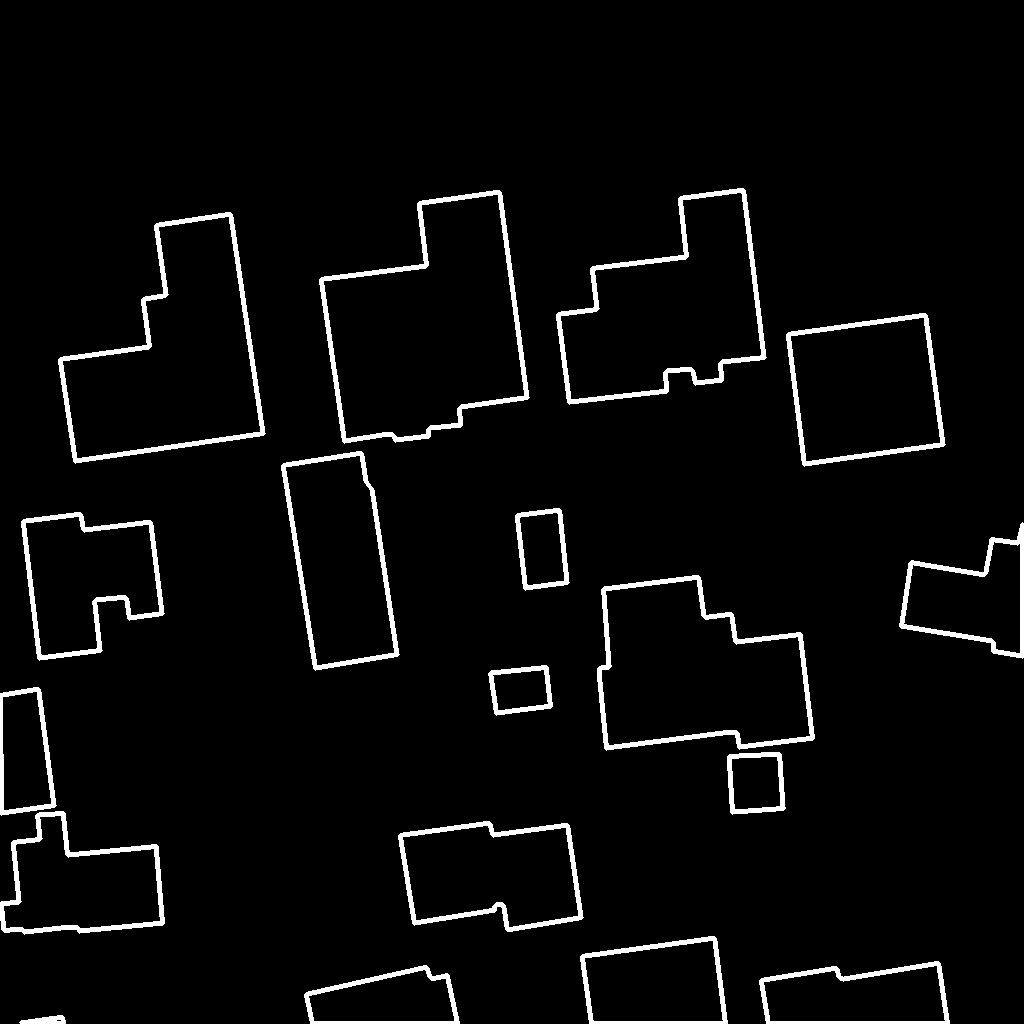building: (321, 192, 528, 442), (60, 214, 264, 462), (558, 190, 765, 403), (599, 577, 814, 749), (283, 453, 398, 669), (788, 315, 944, 465), (23, 514, 163, 659), (400, 823, 582, 931), (1, 813, 164, 933), (901, 522, 1024, 657), (582, 938, 727, 1024), (761, 963, 949, 1024), (306, 967, 459, 1024), (0, 689, 55, 814), (517, 510, 568, 589), (729, 754, 784, 813), (490, 667, 552, 714), (18, 1017, 65, 1024)
